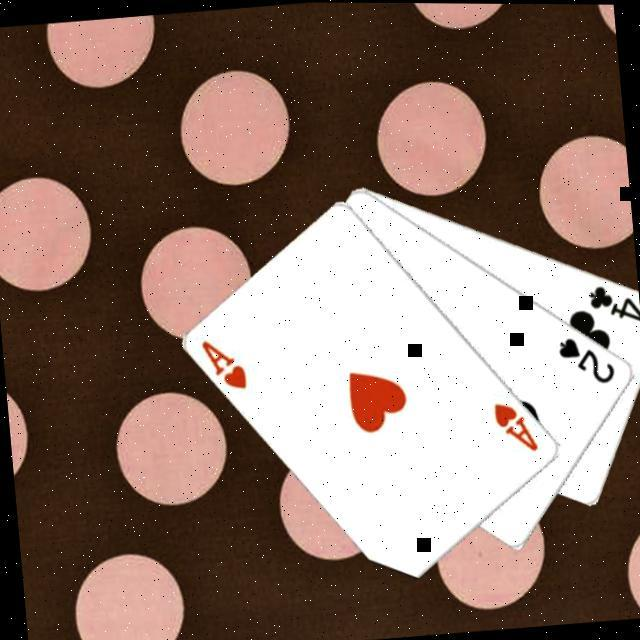2S: (553, 332, 618, 391)
4C: (582, 279, 640, 330)
AH: (195, 335, 250, 397), (488, 397, 541, 458)
